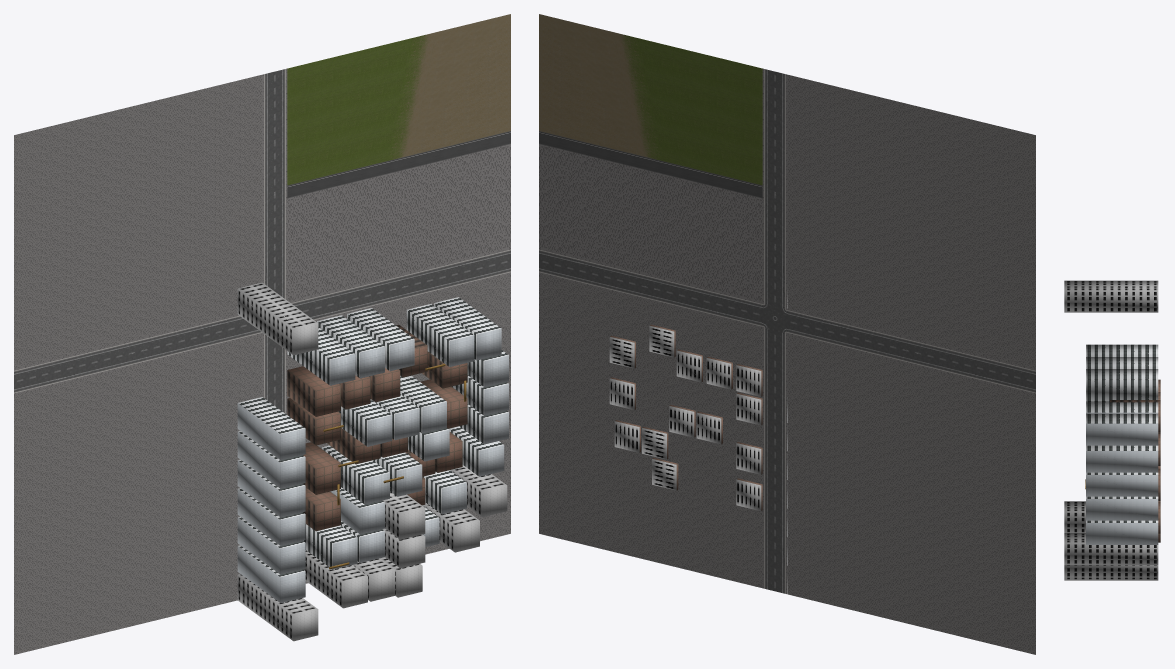
Rendered from stage-0-1.fbx.
3 views of the same model, side by side, from view 1: azimuth 30°, elevation 25°; view 2: azimuth 150°, elevation 25°; view 3: azimuth 270°, elevation 25° (orthographic). The views are drawn at different scales.
Visible parts, largest first — view 1: Ground; view 2: Ground; view 3: Ground.
Part boxes in pixels (x1,y1,x2,y2): Ground: (14, 14, 510, 654); Ground: (539, 14, 1035, 654); Ground: (1064, 280, 1160, 580).
Bounding box in the file's own units: 200 × 200 × 40.
Materials: 15 (15 with a texture image).
